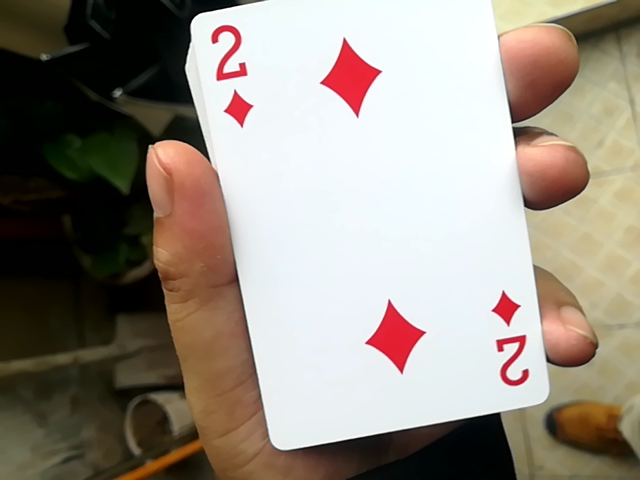fk 2: (175, 0, 538, 450)
